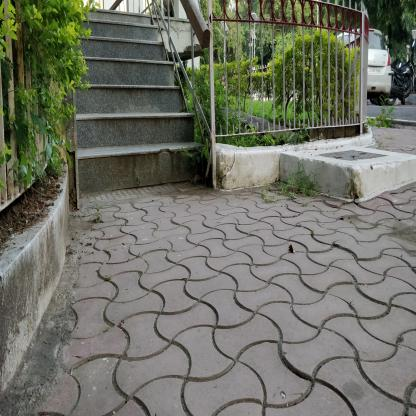stairs: (91, 67, 179, 199)
